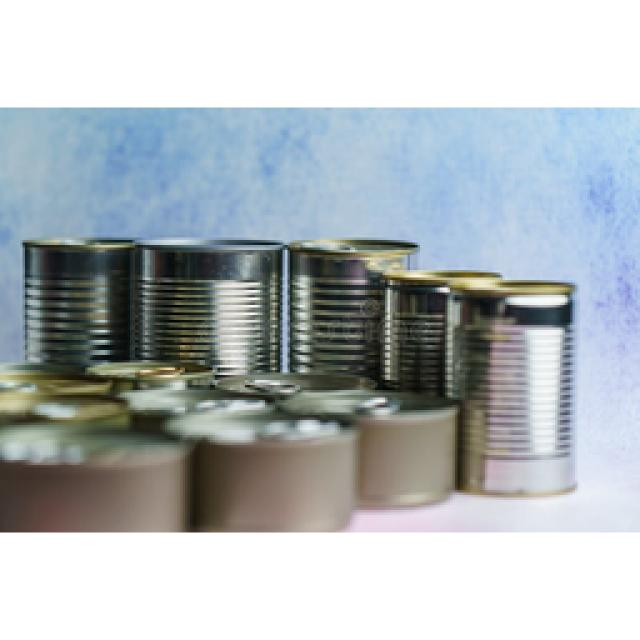alumunium: (0, 238, 572, 530)
